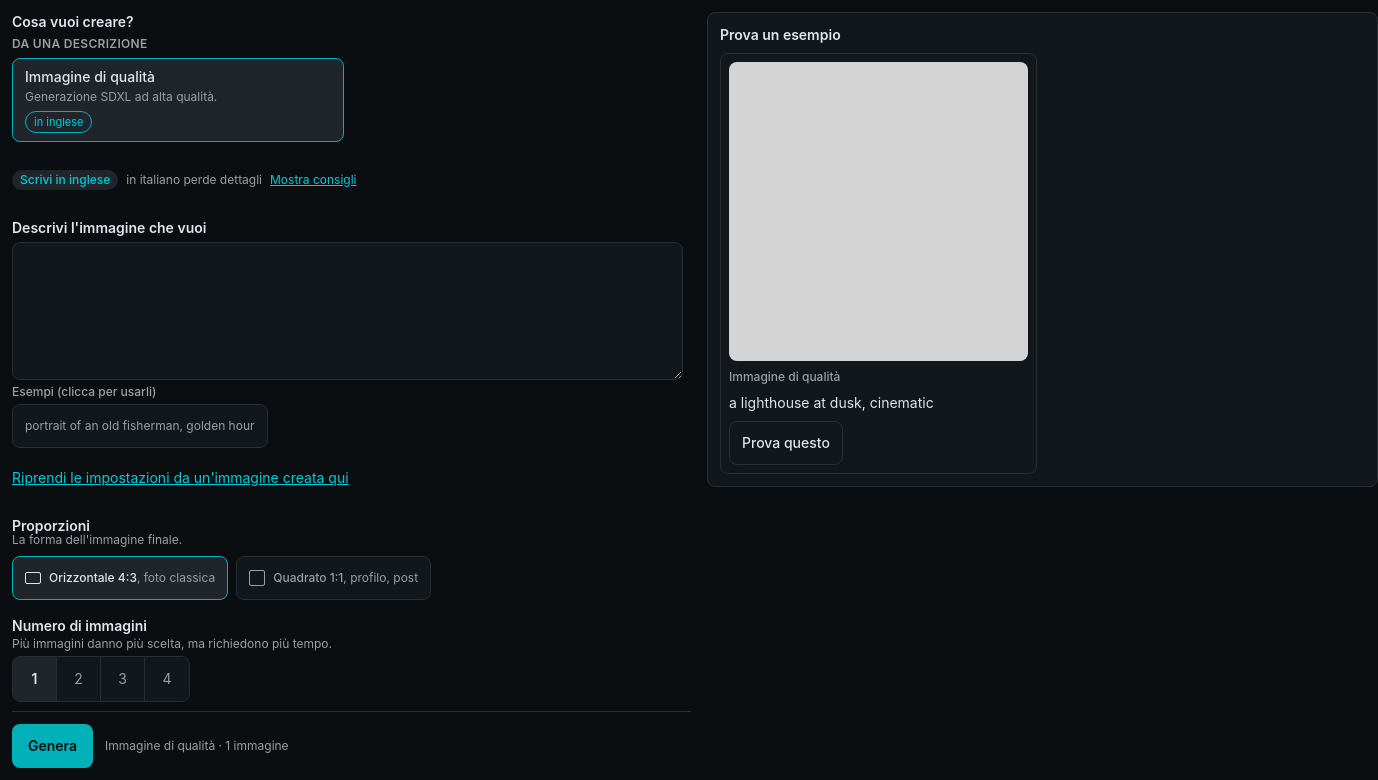
CreatePage examples panel (SPEC.md § 11.3) › fills the form and moves focus to Genera without sending a job
Step 1. Click the button "Prova questo" → x=786, y=442, box [729,420,843,464]
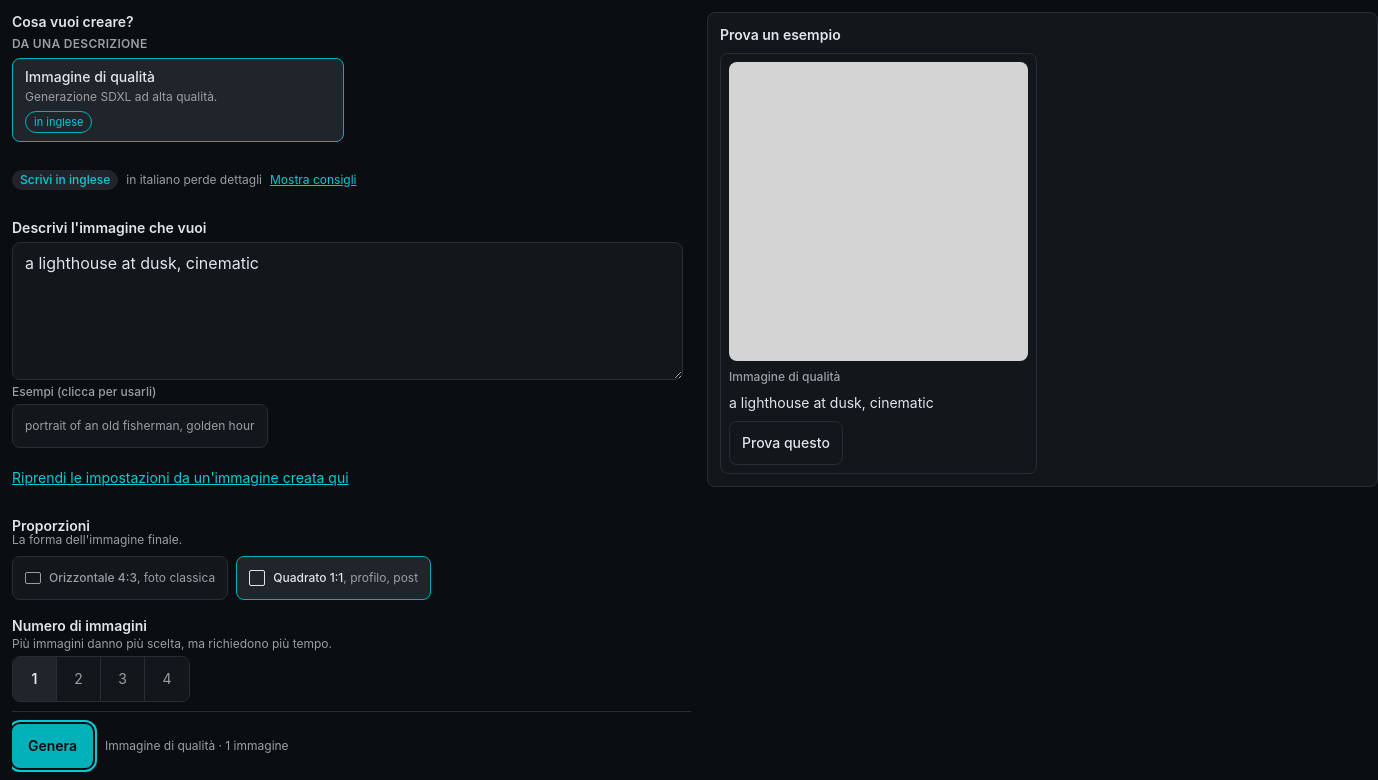
Expected: the text box labelled "Descrivi l'immagine che vuoi" holds "a lighthouse at dusk, cinematic", [12,242,683,380]
